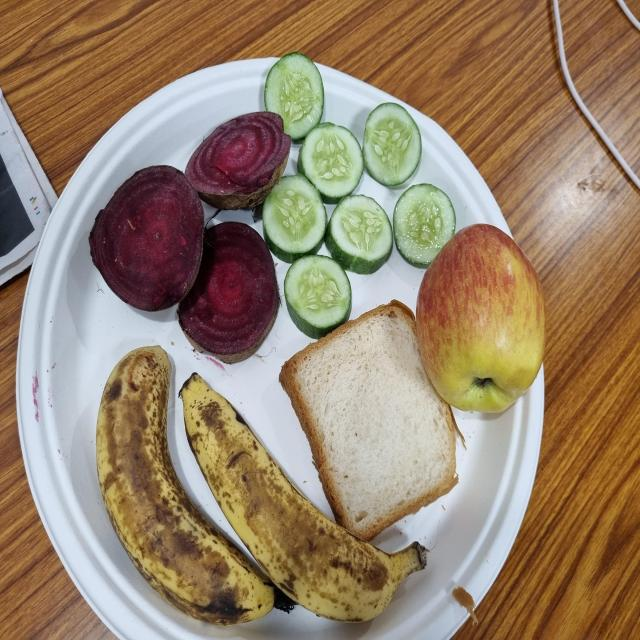apple: (412, 224, 547, 419)
banana: (177, 375, 424, 624), (94, 347, 281, 621)
cucumber: (282, 253, 354, 343), (260, 176, 331, 263), (363, 102, 423, 198), (324, 197, 394, 277), (394, 183, 458, 270), (264, 55, 325, 145), (298, 124, 364, 202)
